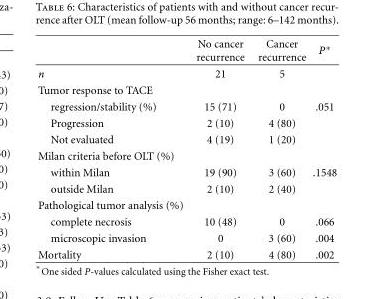table: (37, 37, 336, 260)
table column: (37, 37, 189, 260), (189, 37, 250, 260), (250, 37, 308, 260), (308, 37, 336, 260)
table column header: (37, 37, 336, 64)
table projected row header: (37, 81, 336, 98), (37, 196, 336, 213), (37, 147, 336, 163)
table row: (37, 37, 336, 64), (37, 64, 336, 81), (37, 81, 336, 98), (37, 130, 336, 147), (37, 163, 336, 180), (37, 196, 336, 213), (37, 229, 336, 246), (37, 98, 336, 114), (37, 114, 336, 130), (37, 147, 336, 163), (37, 180, 336, 196), (37, 213, 336, 229), (37, 246, 336, 260)
